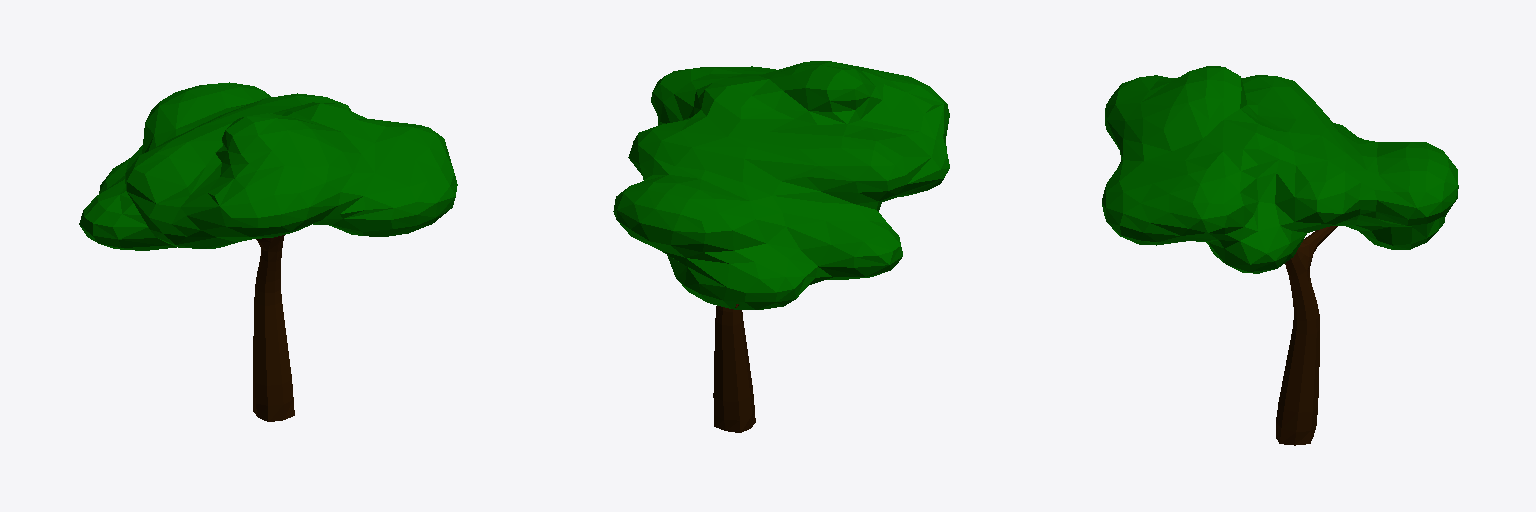
File: arbre.obj
3 views of the same model, side by side, from view 1: azimuth 30°, elevation 25°; view 2: azimuth 150°, elevation 25°; view 3: azimuth 270°, elevation 25° (orthographic).
Parts seen in each view (by area): view 1: Mball.015_Mesh, Cube_Cube.001; view 2: Mball.015_Mesh, Cube_Cube.001; view 3: Mball.015_Mesh, Cube_Cube.001.
Part boxes in pixels (x1,y1,x2,y2): Mball.015_Mesh: (79, 82, 457, 250); Cube_Cube.001: (253, 235, 294, 421); Mball.015_Mesh: (613, 61, 949, 309); Cube_Cube.001: (713, 304, 755, 432); Mball.015_Mesh: (1102, 66, 1458, 273); Cube_Cube.001: (1276, 226, 1337, 445).
Bounding box in the file's own units: 5.44 × 5.89 × 5.63.